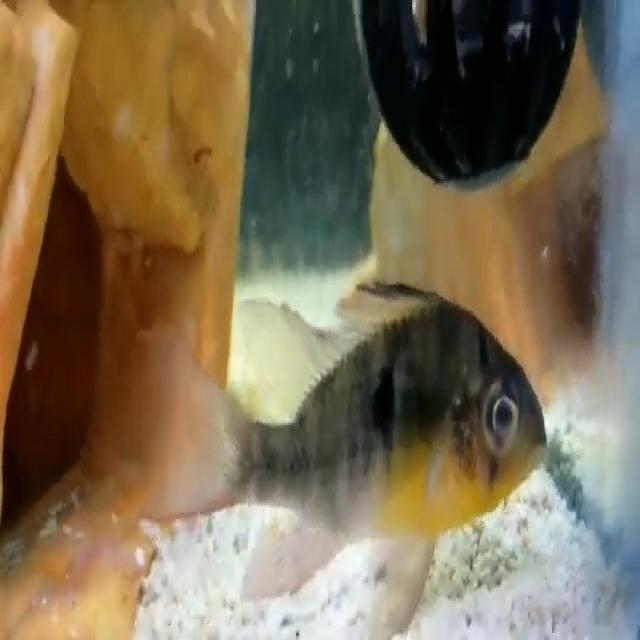fish: (156, 275, 550, 622)
